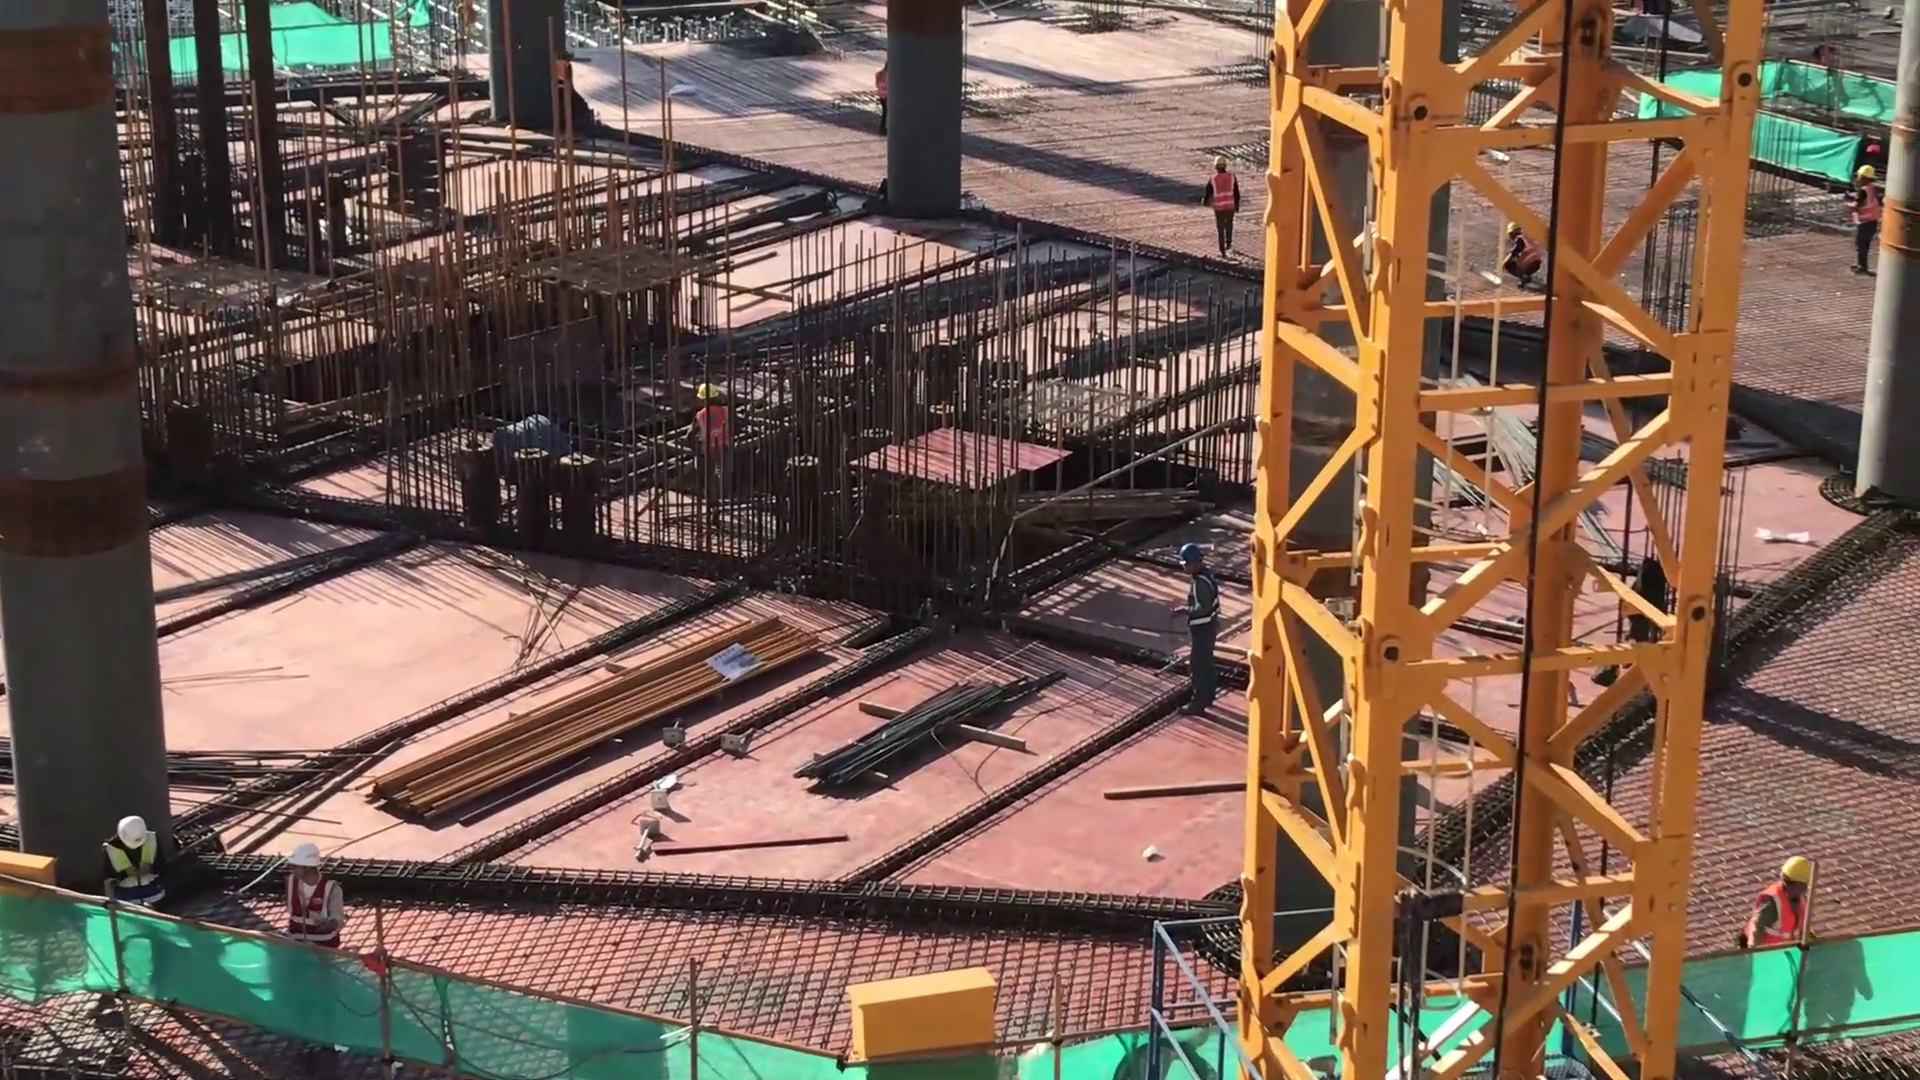helmet: (278, 841, 354, 870), (1779, 845, 1820, 887), (111, 810, 148, 842)
person: (1174, 529, 1232, 720), (1747, 849, 1821, 962), (104, 819, 185, 918), (285, 846, 356, 949), (1494, 196, 1556, 307), (1843, 145, 1890, 284), (692, 361, 731, 500), (1211, 149, 1240, 251)
vest: (1183, 568, 1240, 647), (98, 841, 165, 907), (1751, 881, 1805, 949), (1202, 166, 1239, 216), (1505, 230, 1543, 266), (697, 406, 729, 449), (1855, 176, 1881, 220)
